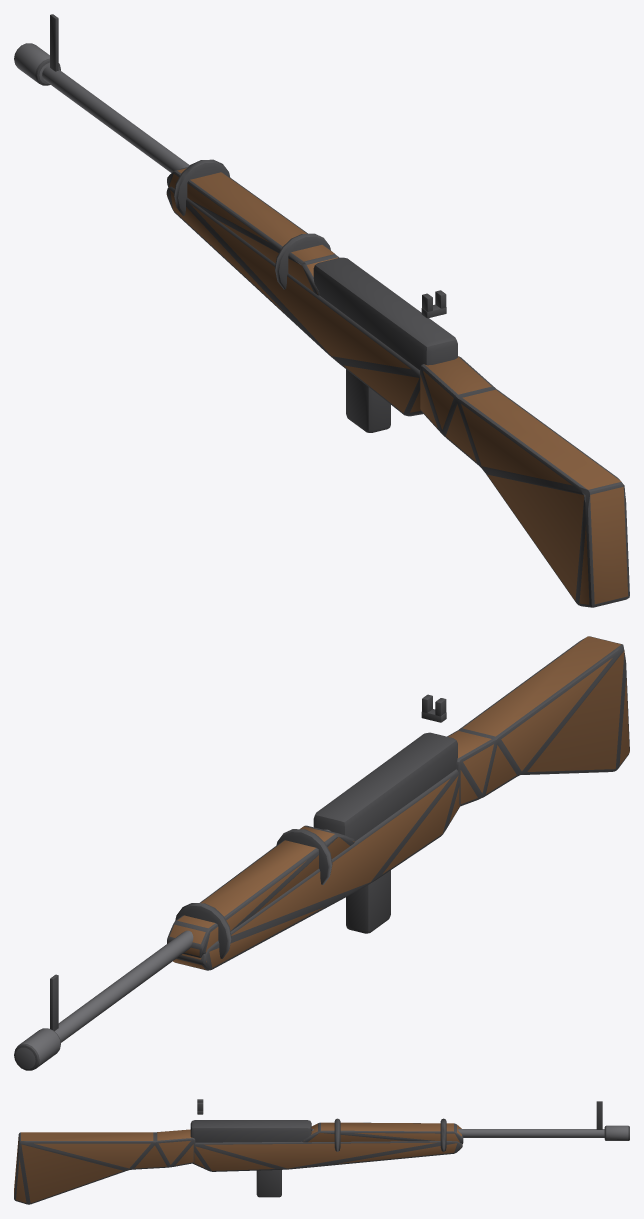
Rendered from svt40.glb.
3 renders of one model, top to bottom at view 1: azimuth 30°, elevation 25°; view 2: azimuth 150°, elevation 25°; view 3: azimuth 270°, elevation 25°, orthographic. The views are drawn at different scales.
Parts seen in each view (by area): view 1: svt40_LOD0; view 2: svt40_LOD0; view 3: svt40_LOD0.
Part boxes in pixels (box(x1,y1,x2,y2)): svt40_LOD0: box(14, 14, 629, 607); svt40_LOD0: box(14, 636, 629, 1070); svt40_LOD0: box(14, 1099, 629, 1204).
Bounding box in the file's own units: 0.0682 × 0.2157 × 1.22.
